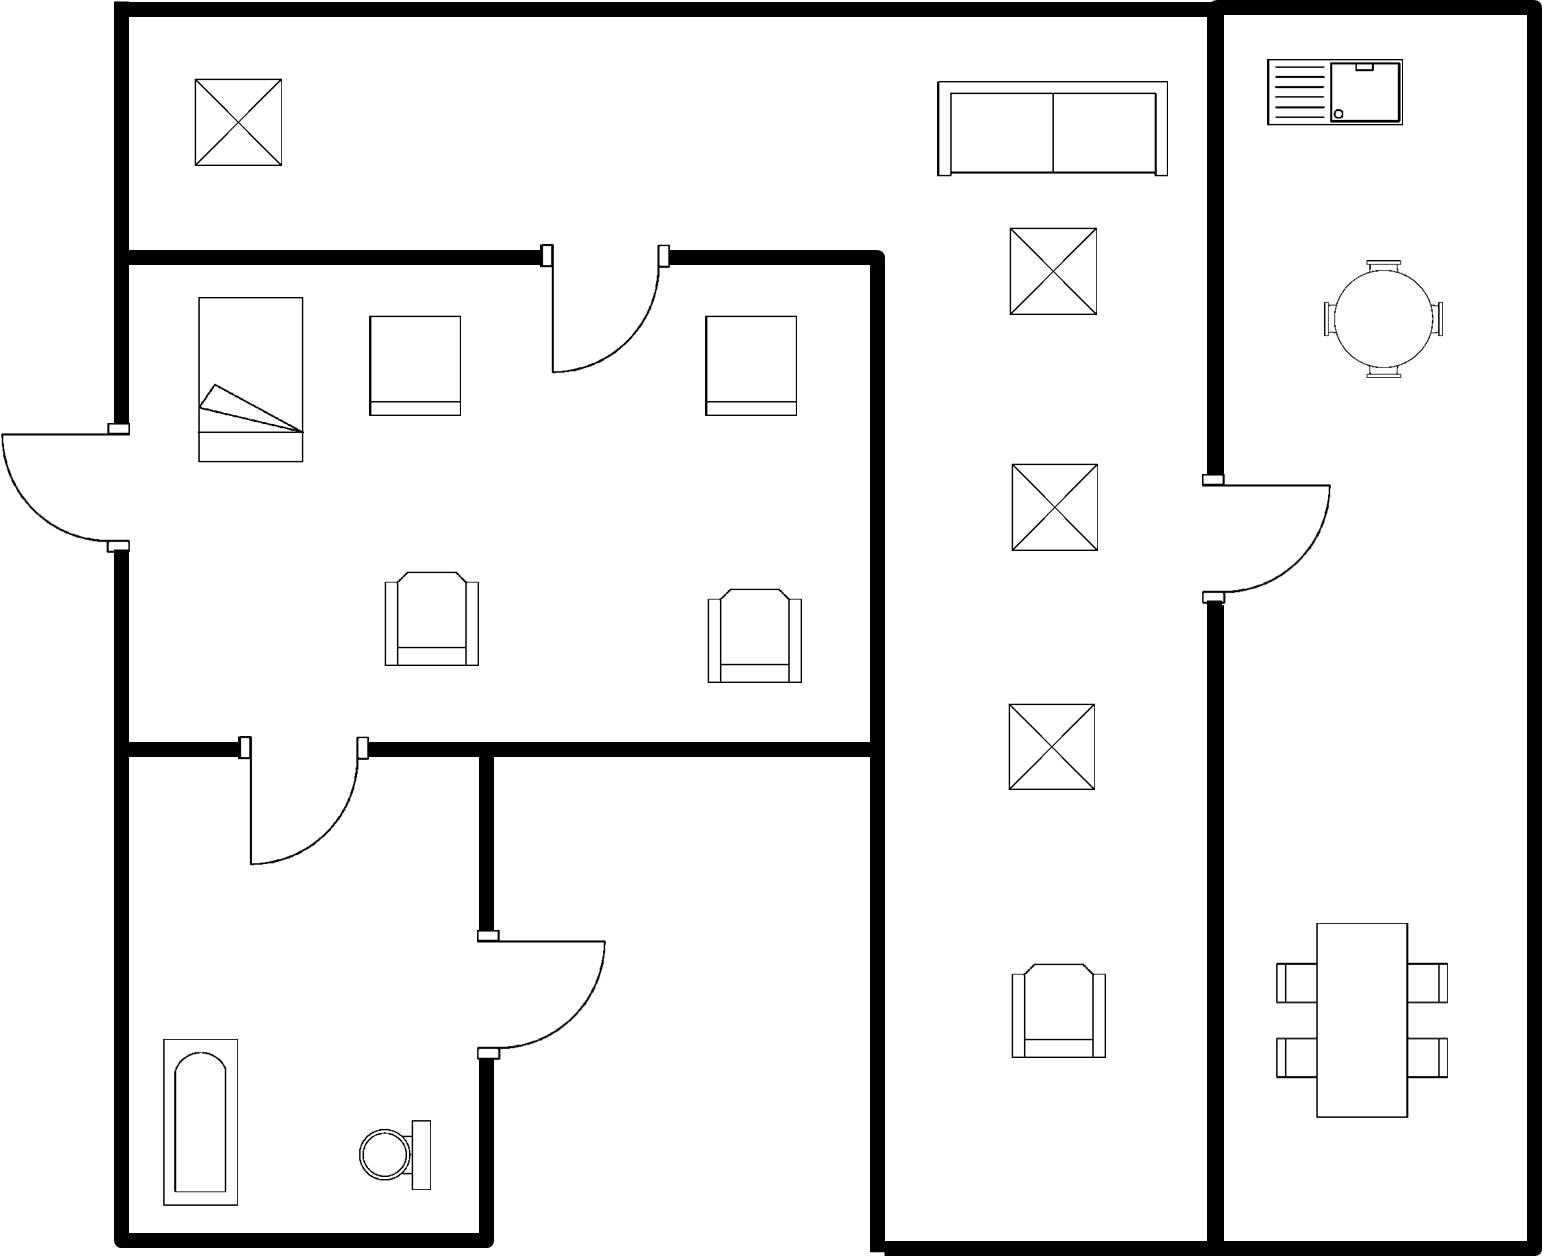bed: (187, 286, 312, 469)
dining_table: (1267, 915, 1454, 1125)
round_table: (1314, 248, 1451, 385)
sink: (1258, 47, 1411, 136)
sofa: (929, 73, 1174, 187)
toilet: (352, 1109, 441, 1198)
tub: (154, 1029, 246, 1212)
